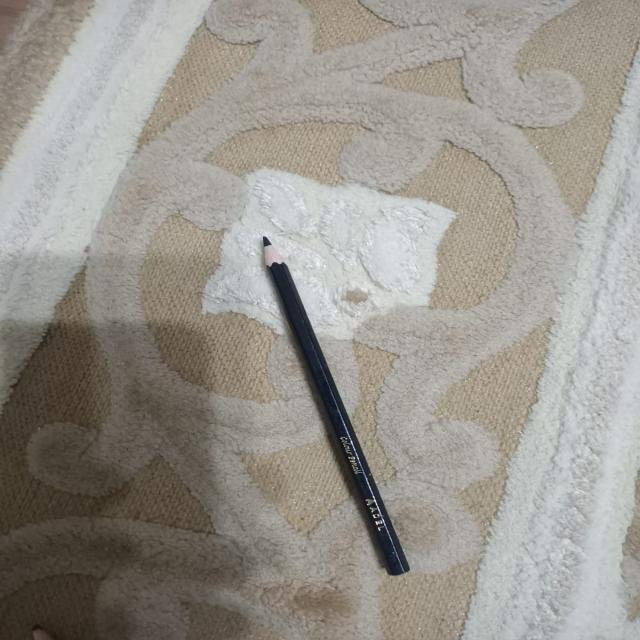pencil: (261, 237, 409, 575)
